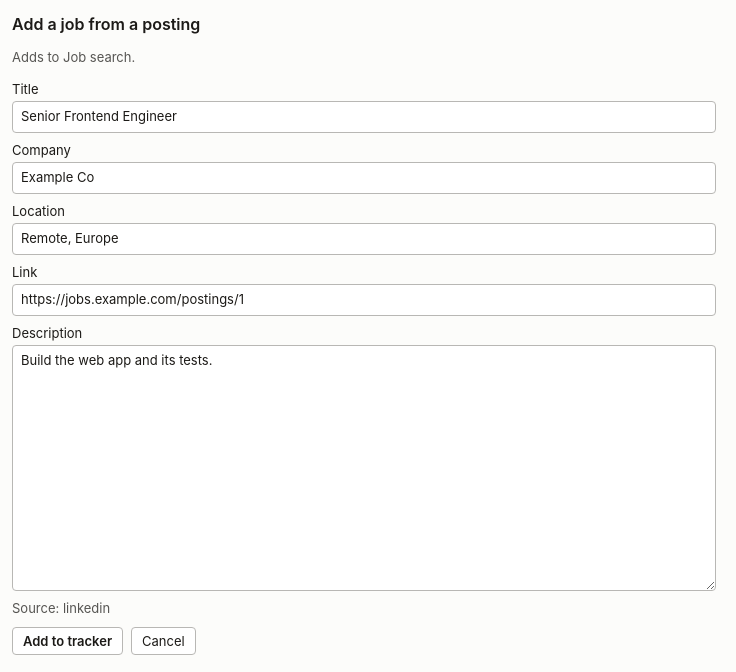
add posts the form once with its six fields
The image size is (736, 672).
Replace the text in the field labelled "Title" with "Staff Frontend Engineer" at (364, 117), box [12,101,716,132]
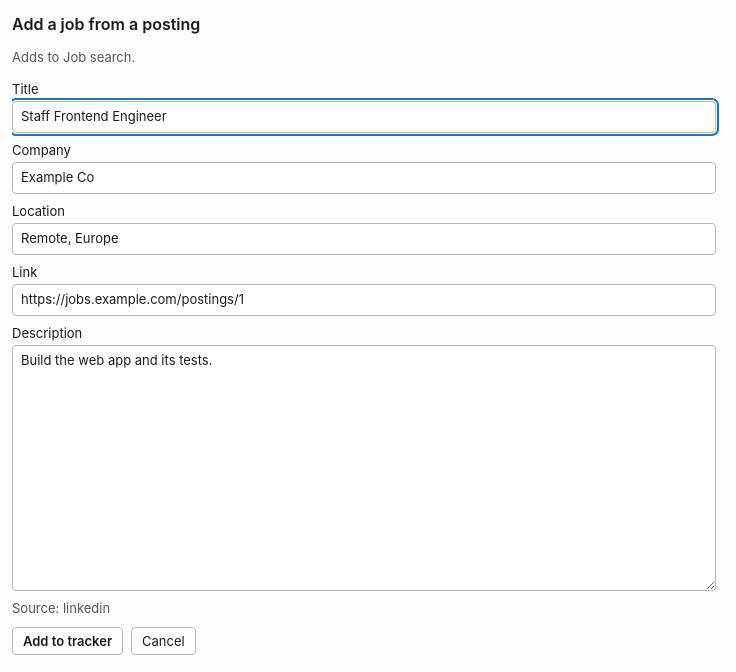
Click the button "Add to tracker" at (68, 640), box [12,626,123,654]
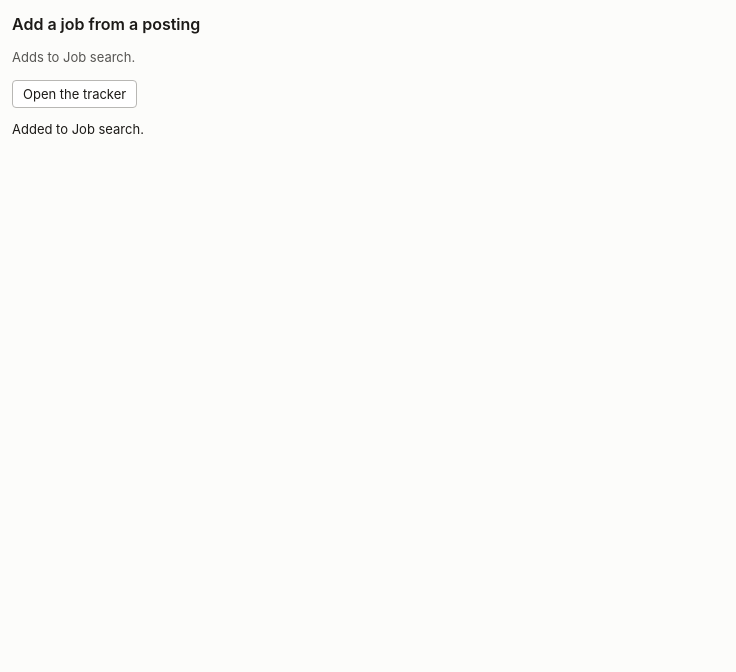
Result: the message reads "Added to Job search." at [12,120,144,136]
